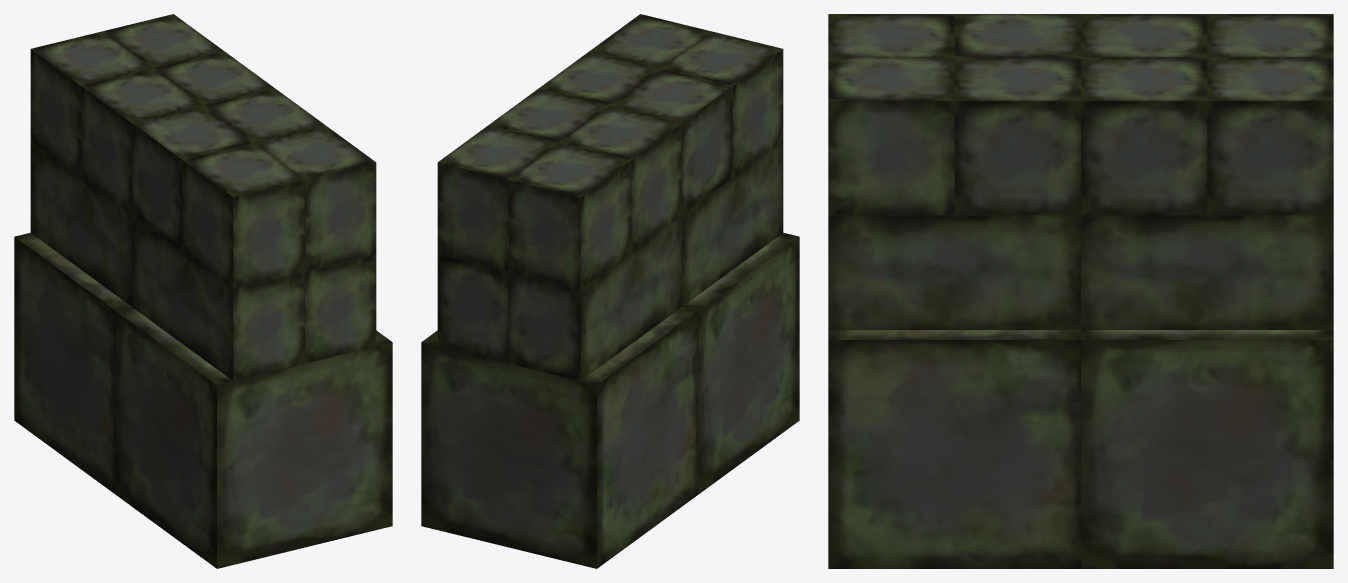
Rendered from wall-03.fbx.
The picture shows the model from 3 angles, left to right: view 1: azimuth 30°, elevation 25°; view 2: azimuth 150°, elevation 25°; view 3: azimuth 270°, elevation 25°; orthographic projection. The views are drawn at different scales.
Visible parts, largest first — view 1: wall_3; view 2: wall_3; view 3: wall_3.
Boxes of the visible parts, <box> form: wall_3: <box>14,14,392,568</box>; wall_3: <box>421,14,799,568</box>; wall_3: <box>828,14,1333,568</box>.
Size of the model in its own units: 200 by 400 by 400.
